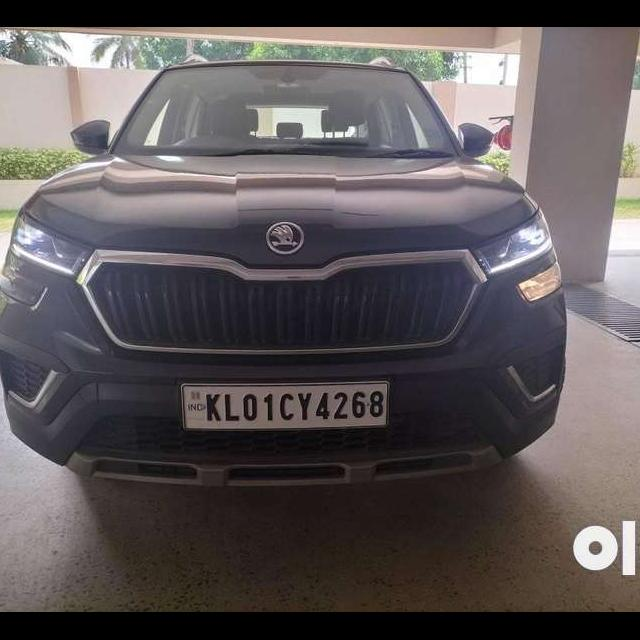Indian_Number_Plate: (183, 382, 391, 428)
